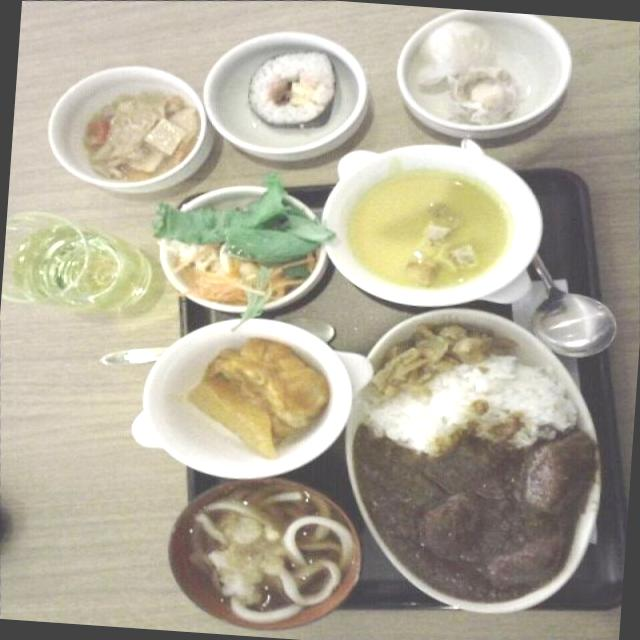Beef Curry: (361, 426, 571, 610)
